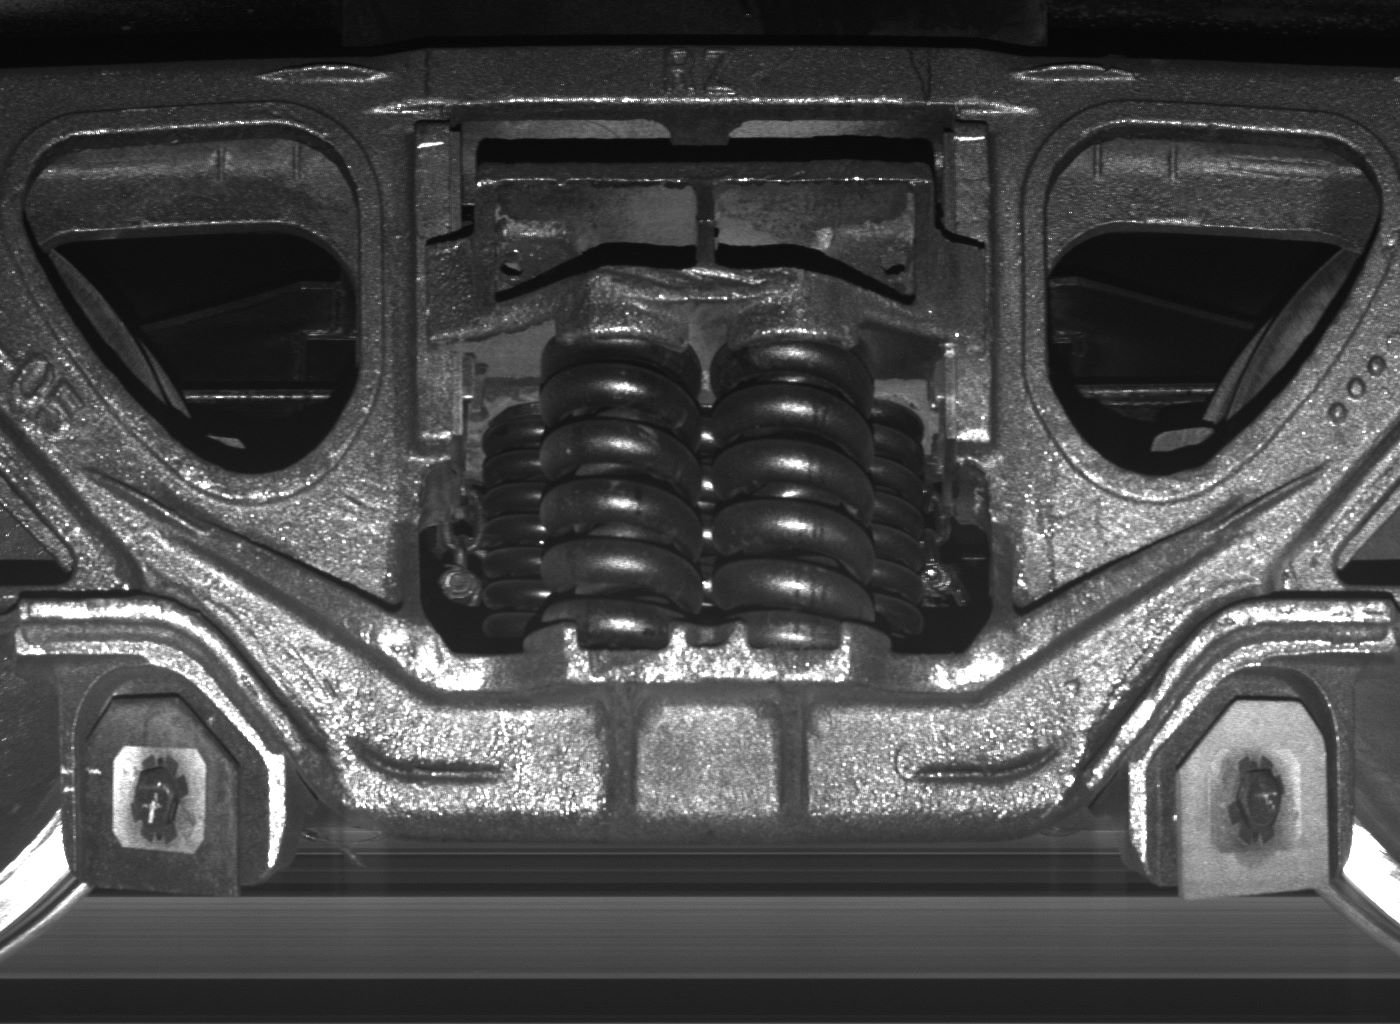Locking plate: (1129, 662, 1355, 899), (57, 666, 285, 898)
